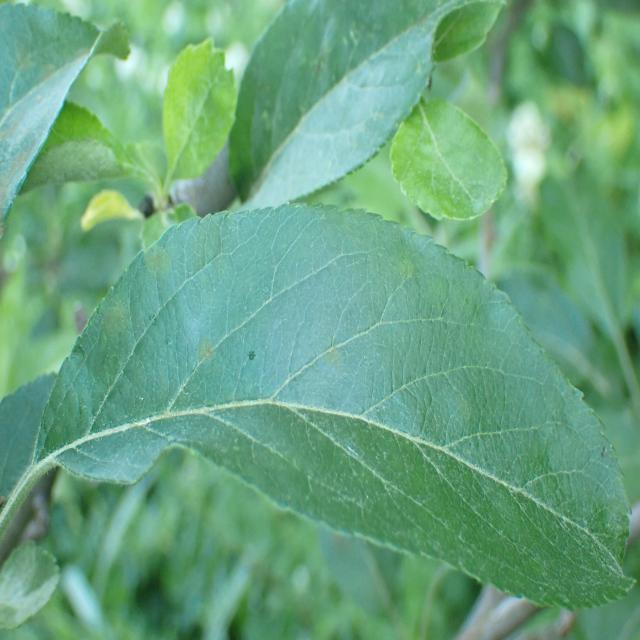scab: (87, 216, 574, 554), (233, 12, 420, 185)
